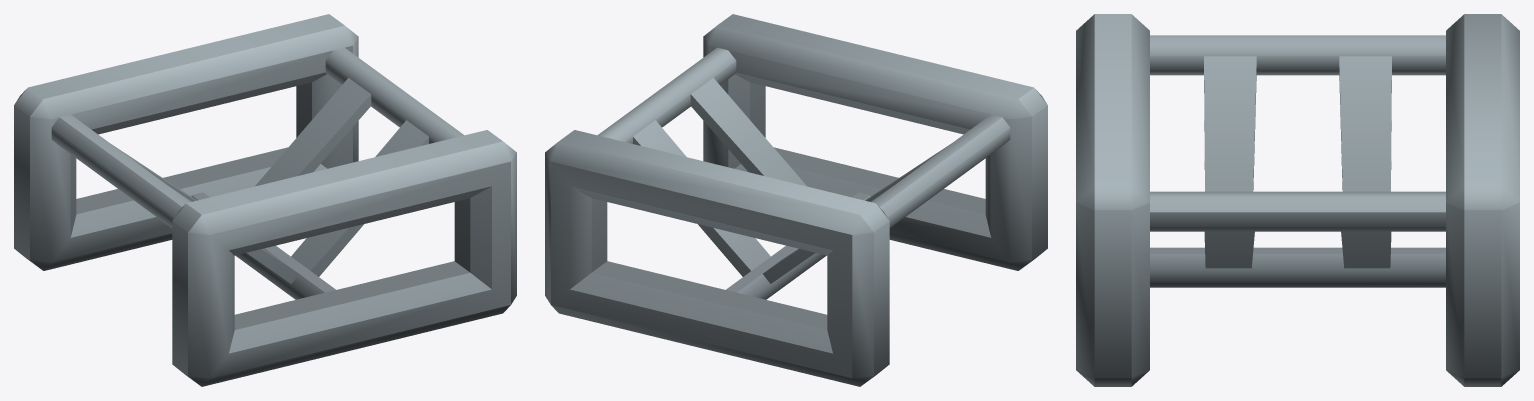
Rendered from dishrack.obj.
3 renders of one model, left to right at view 1: azimuth 30°, elevation 25°; view 2: azimuth 150°, elevation 25°; view 3: azimuth 270°, elevation 25°, orthographic. The views are drawn at different scales.
Parts seen in each view (by area): view 1: dishrack_Cylinder.153; view 2: dishrack_Cylinder.153; view 3: dishrack_Cylinder.153.
Boxes of the visible parts, <box> form: dishrack_Cylinder.153: <box>14,14,516,386</box>; dishrack_Cylinder.153: <box>545,14,1047,386</box>; dishrack_Cylinder.153: <box>1076,14,1519,386</box>.
Size of the model in its own units: 1.2 by 0.6 by 1.2.
1 material, 1 textured.
